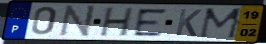0: (30, 5, 59, 37)
E: (132, 8, 169, 38)
H: (98, 7, 136, 38)
K: (173, 8, 203, 39)
M: (197, 7, 245, 40)
N: (57, 4, 98, 39)
